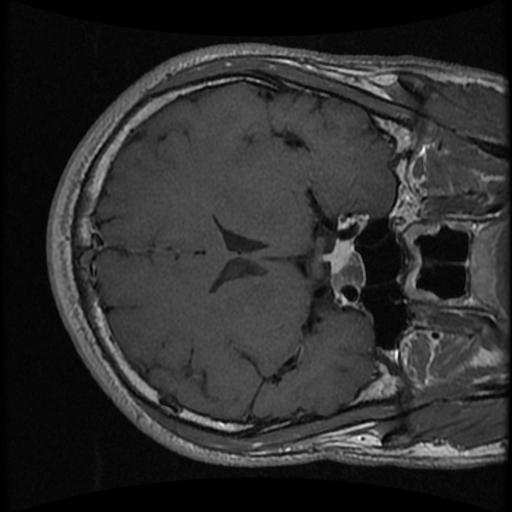pituitary tumour: (322, 239, 365, 292)
